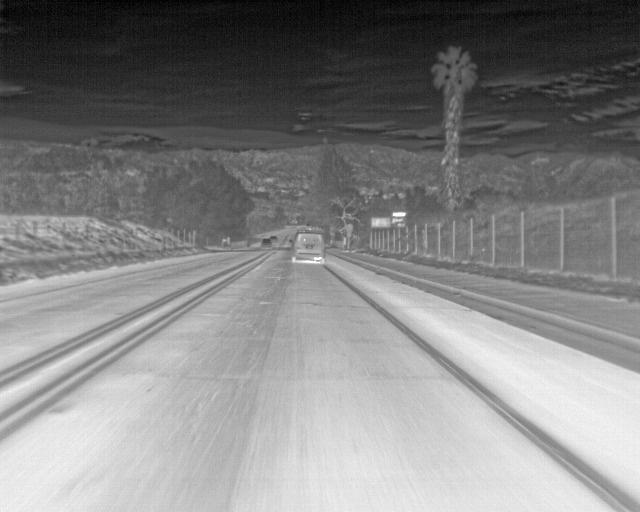car: (292, 234, 324, 264), (284, 236, 296, 249), (269, 236, 282, 248), (259, 237, 271, 250)
